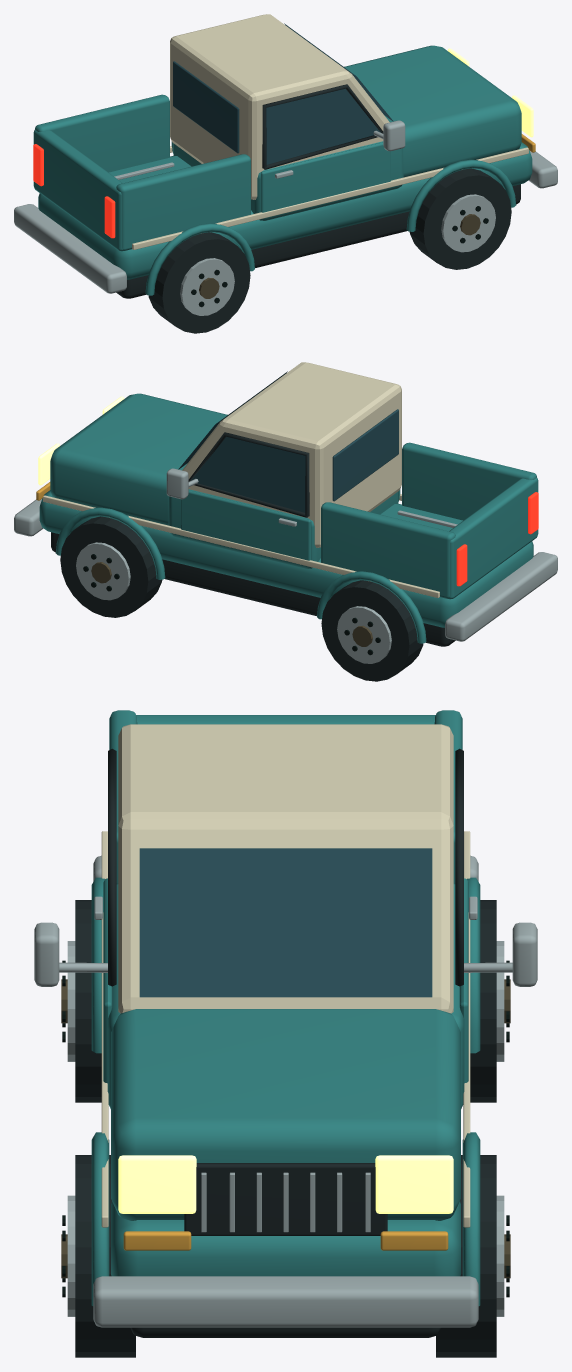
Rendered from truck-high.glb.
The picture shows the model from 3 angles, top to bottom: view 1: azimuth 30°, elevation 25°; view 2: azimuth 150°, elevation 25°; view 3: azimuth 270°, elevation 25°; orthographic projection. The views are drawn at different scales.
Parts seen in each view (by area): view 1: TRUCK; view 2: TRUCK; view 3: TRUCK.
Part boxes in pixels (bbox=[...]): TRUCK: bbox=[14, 14, 557, 333]; TRUCK: bbox=[14, 362, 557, 681]; TRUCK: bbox=[34, 710, 537, 1357].
Bounding box in the file's own units: 2.92 × 1.33 × 1.41.
